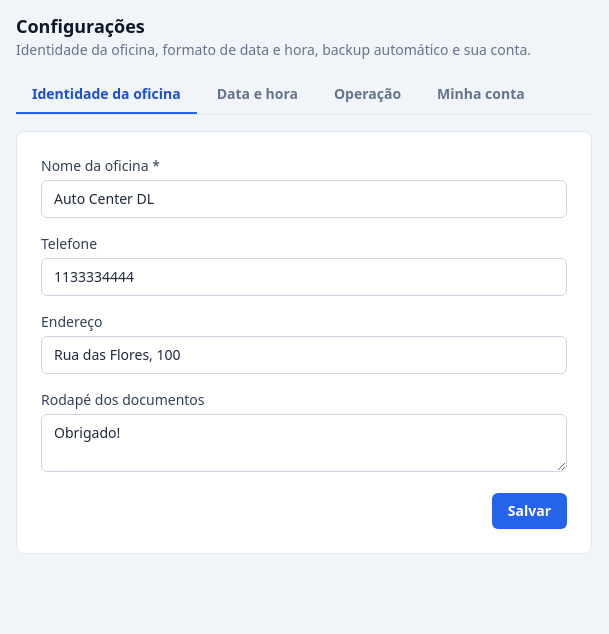
Scenario: SettingsPage tabs (2026-09-18) › loads backup config/status and saves changes (admin)
Click the tab "Operação" at (368, 95), box [318,76,417,114]
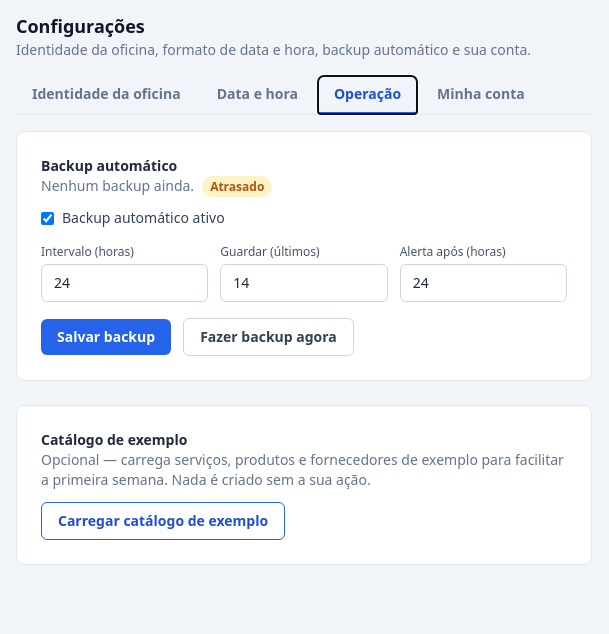
Now the text "Nenhum backup ainda." is shown, box [41,176,194,195]
Now the field labelled "Intervalo (horas)" holds "24"
Replace the text in the field labelled "Intervalo (horas)" with "12" at (125, 283), box [41,264,208,302]
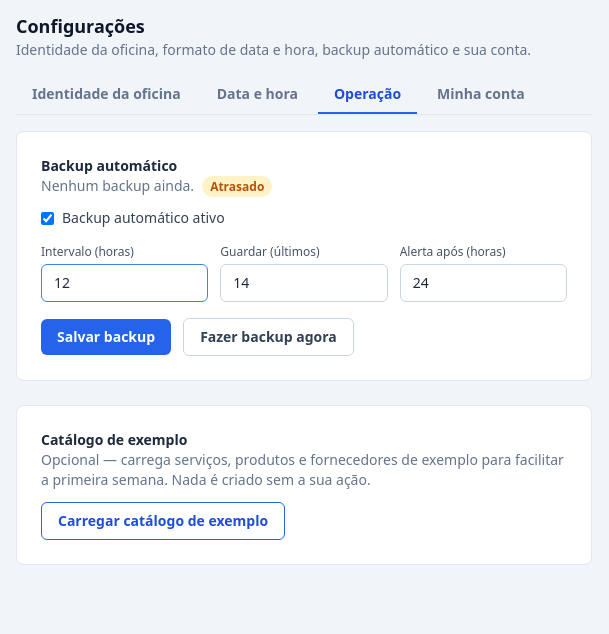
Click the button "Salvar backup" at (106, 337), box [41,319,171,355]
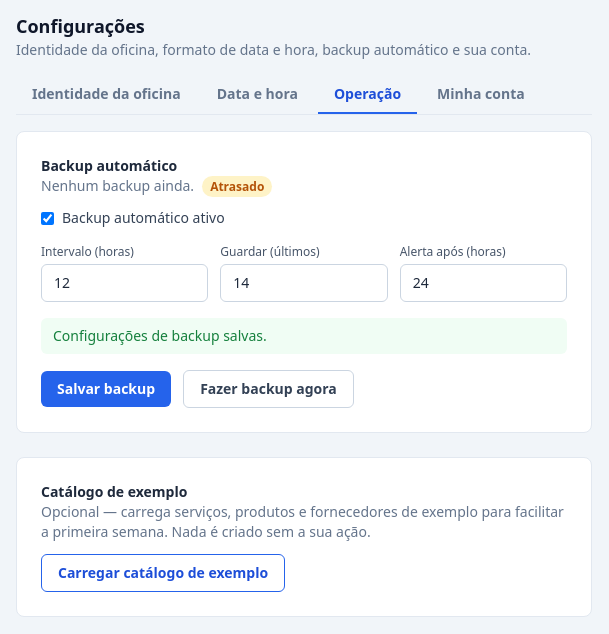
Now the text "Configurações de backup salvas." is shown, box [41,318,567,354]
